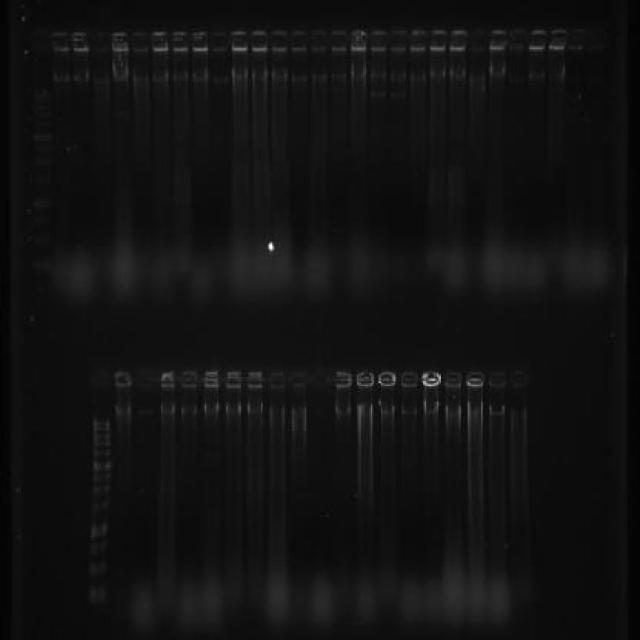L: (19, 24, 618, 60), (78, 362, 537, 398)
M: (79, 413, 115, 610), (24, 84, 56, 286)
P: (84, 584, 108, 606), (84, 560, 108, 578), (86, 520, 109, 538), (85, 540, 110, 556), (30, 254, 52, 272), (89, 500, 111, 516), (91, 483, 111, 497), (91, 459, 112, 472), (32, 173, 54, 184), (31, 234, 51, 246), (32, 198, 52, 210), (91, 448, 112, 459), (92, 472, 111, 483), (32, 157, 54, 166), (32, 133, 52, 142), (91, 440, 111, 448), (91, 418, 111, 426), (32, 144, 52, 152), (32, 120, 52, 128), (32, 90, 52, 98), (33, 104, 52, 112), (91, 432, 111, 439), (34, 111, 51, 118), (33, 98, 52, 104), (92, 426, 110, 432)
Pc: (22, 30, 48, 56), (82, 366, 109, 391), (506, 366, 531, 391), (286, 364, 308, 392), (110, 368, 135, 390), (354, 365, 376, 390), (462, 368, 486, 390), (266, 364, 286, 390), (378, 364, 398, 390), (508, 27, 528, 53), (308, 370, 334, 390), (156, 368, 177, 392), (398, 366, 418, 391), (178, 366, 197, 392), (418, 366, 440, 388), (485, 368, 507, 390), (134, 368, 156, 390), (130, 30, 150, 54), (488, 28, 508, 52), (548, 28, 568, 52), (223, 366, 242, 391), (568, 26, 586, 52), (50, 30, 70, 53), (70, 31, 90, 54), (90, 30, 110, 53), (110, 30, 130, 53), (149, 30, 169, 53), (289, 29, 308, 53), (368, 30, 387, 54), (408, 29, 427, 53), (428, 29, 447, 53), (468, 28, 487, 52), (528, 29, 547, 53), (201, 368, 221, 390), (244, 368, 264, 390), (442, 366, 462, 388), (588, 28, 608, 50), (335, 368, 353, 392), (270, 29, 288, 53), (310, 30, 328, 54), (448, 28, 466, 52), (170, 31, 190, 52), (190, 30, 208, 53), (210, 30, 228, 53), (250, 30, 268, 53), (350, 30, 368, 53), (390, 30, 408, 53), (230, 30, 248, 52), (330, 30, 347, 53)
